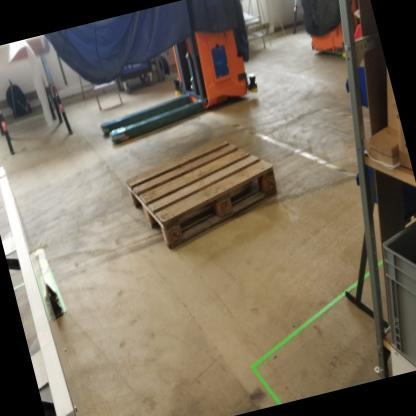BoxFace: (126, 133, 281, 257)
